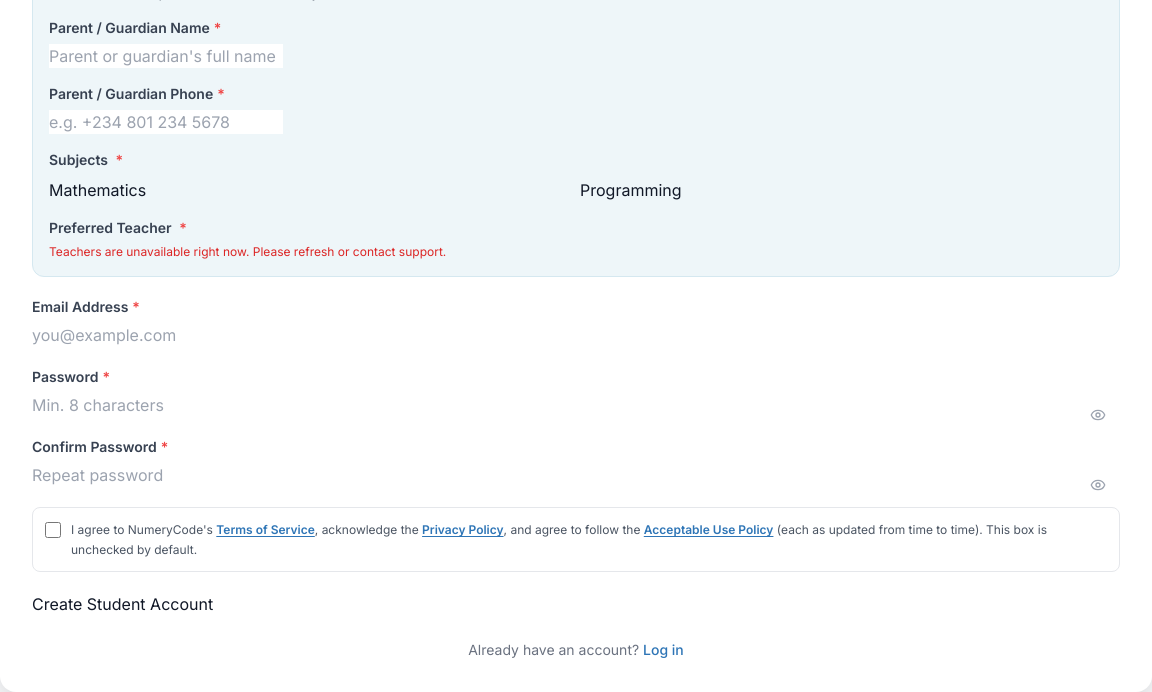
Scenario: RegisterPage › shows weak strength indicator for short password
The image size is (1152, 692).
(page scrolled)
Type "abc" into the password field with placeholder "Min. 8 characters" at (149, 405), box [32,393,266,417]
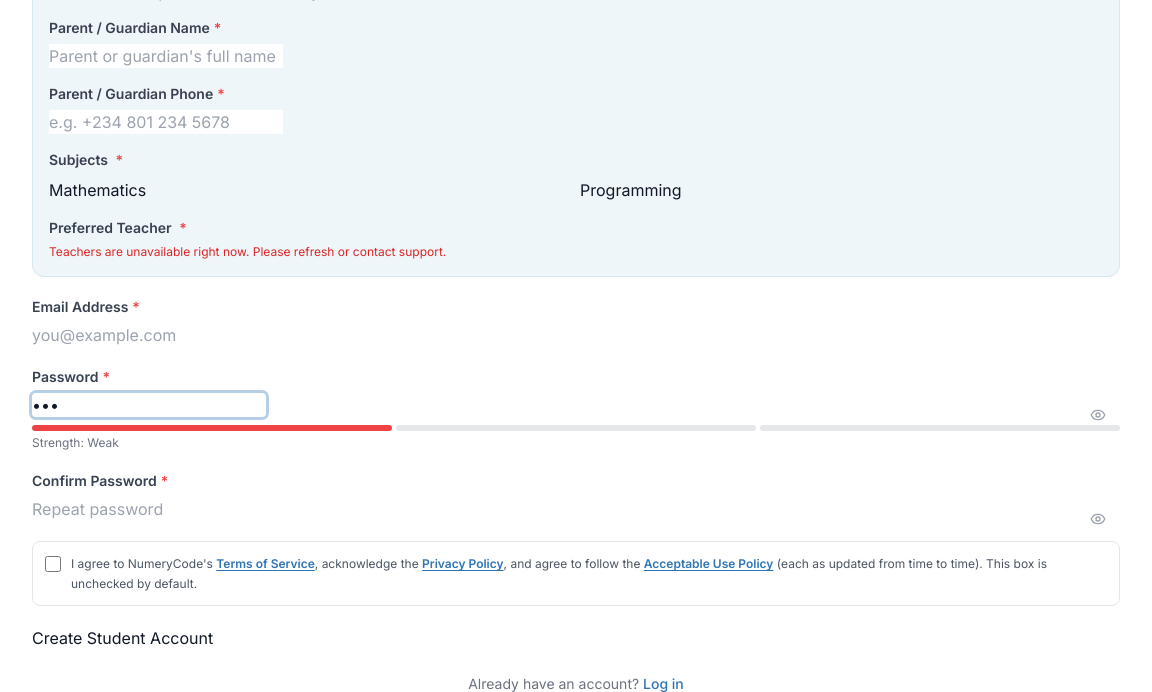
Check: the text "Strength: Weak" is shown, box [32,435,119,450]
